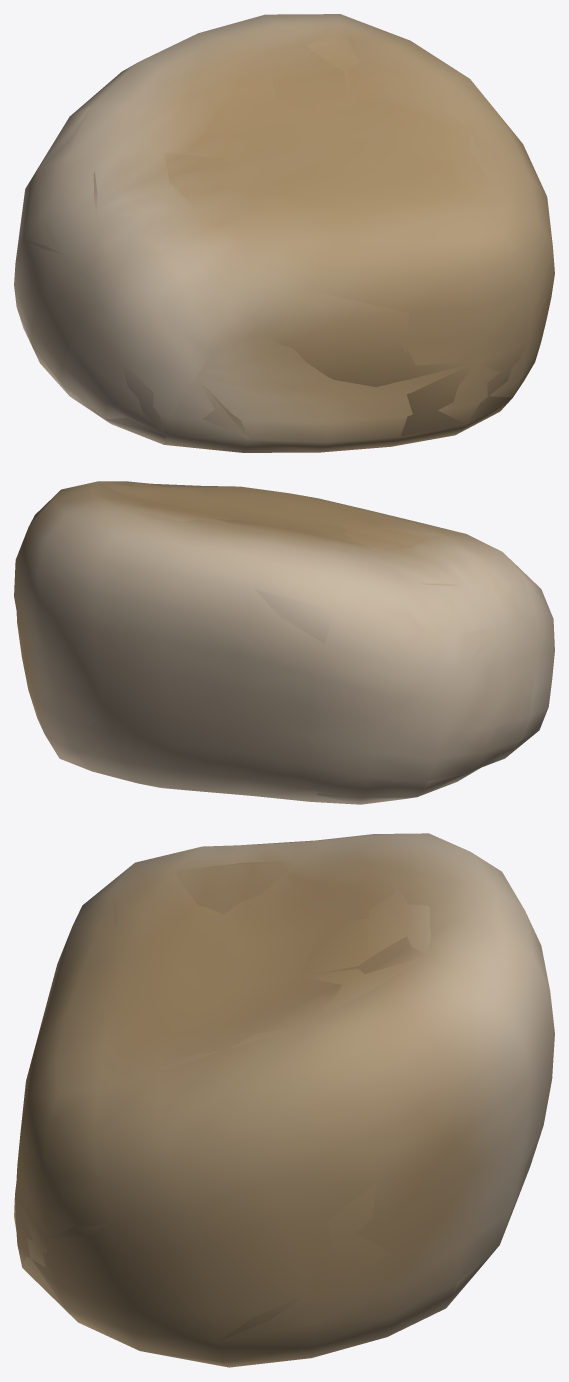
Rendered from L tarsi primum et secundum.fbx.
3 views of the same model, one above another, from view 1: azimuth 30°, elevation 25°; view 2: azimuth 150°, elevation 25°; view 3: azimuth 270°, elevation 25° (orthographic). The views are drawn at different scales.
Visible parts, largest first — view 1: L tarsi primum et secundum, L tarsi primum et secundum low; view 2: L tarsi primum et secundum, L tarsi primum et secundum low; view 3: L tarsi primum et secundum, L tarsi primum et secundum low.
Part boxes in pixels (x1,y1,x2,y2): L tarsi primum et secundum: (14,14,554,452); L tarsi primum et secundum low: (24,14,553,451); L tarsi primum et secundum: (14,481,554,804); L tarsi primum et secundum low: (44,481,537,804); L tarsi primum et secundum: (14,833,554,1367); L tarsi primum et secundum low: (14,840,542,1341).
Size of the model in its own units: 3.88 by 2.32 by 3.07.
